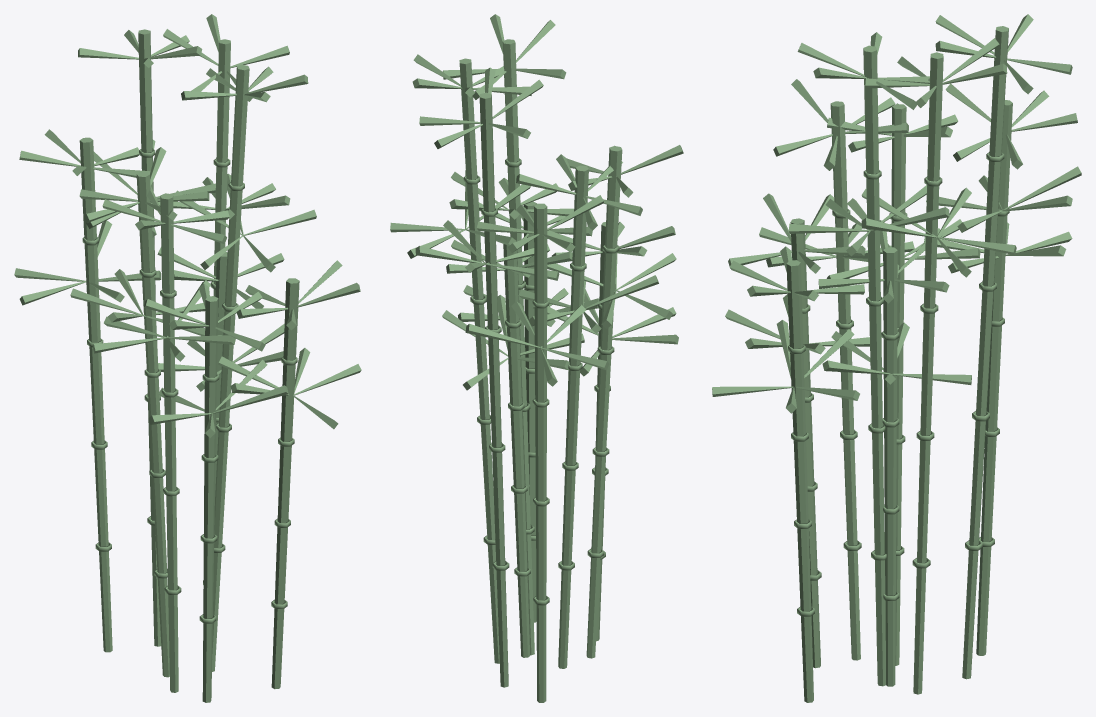
File: bamboo.glb
3 renders of one model, left to right at view 1: azimuth 30°, elevation 25°; view 2: azimuth 150°, elevation 25°; view 3: azimuth 270°, elevation 25°, orthographic. The views are drawn at different scales.
Visible parts, largest first — view 1: bamboo-clump; view 2: bamboo-clump; view 3: bamboo-clump.
Part boxes in pixels (x1=…): bamboo-clump: x1=14, y1=14, x2=361, y2=702; bamboo-clump: x1=390, y1=14, x2=683, y2=702; bamboo-clump: x1=712, y1=14, x2=1081, y2=702.
Bounding box in the file's own units: 1.84 × 4.41 × 2.27.
